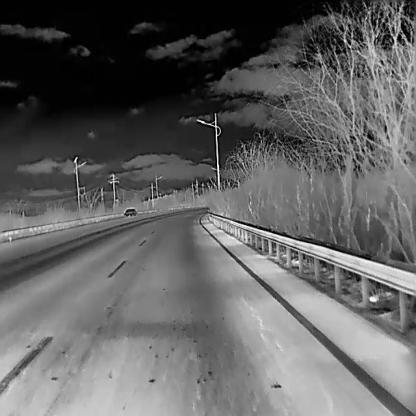car: (123, 207, 136, 217)
